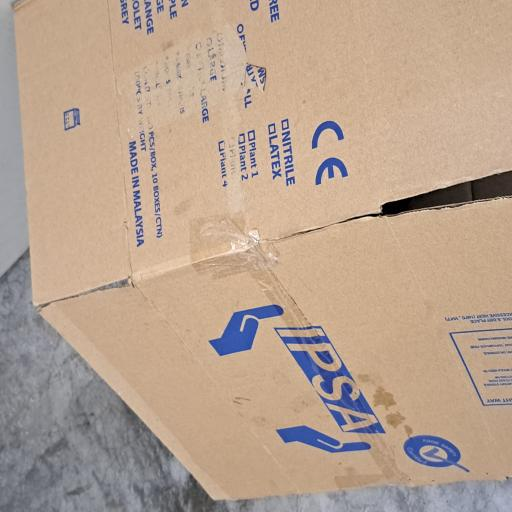cardboard: (8, 14, 384, 512)
